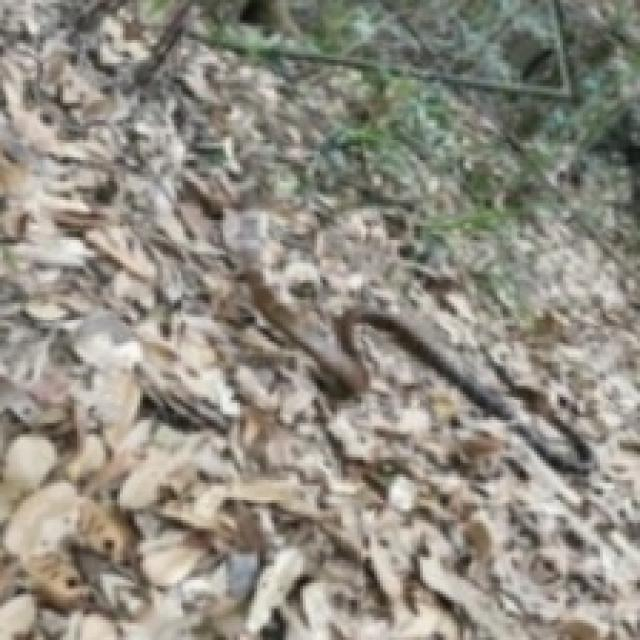king cobra: (242, 265, 595, 473)
